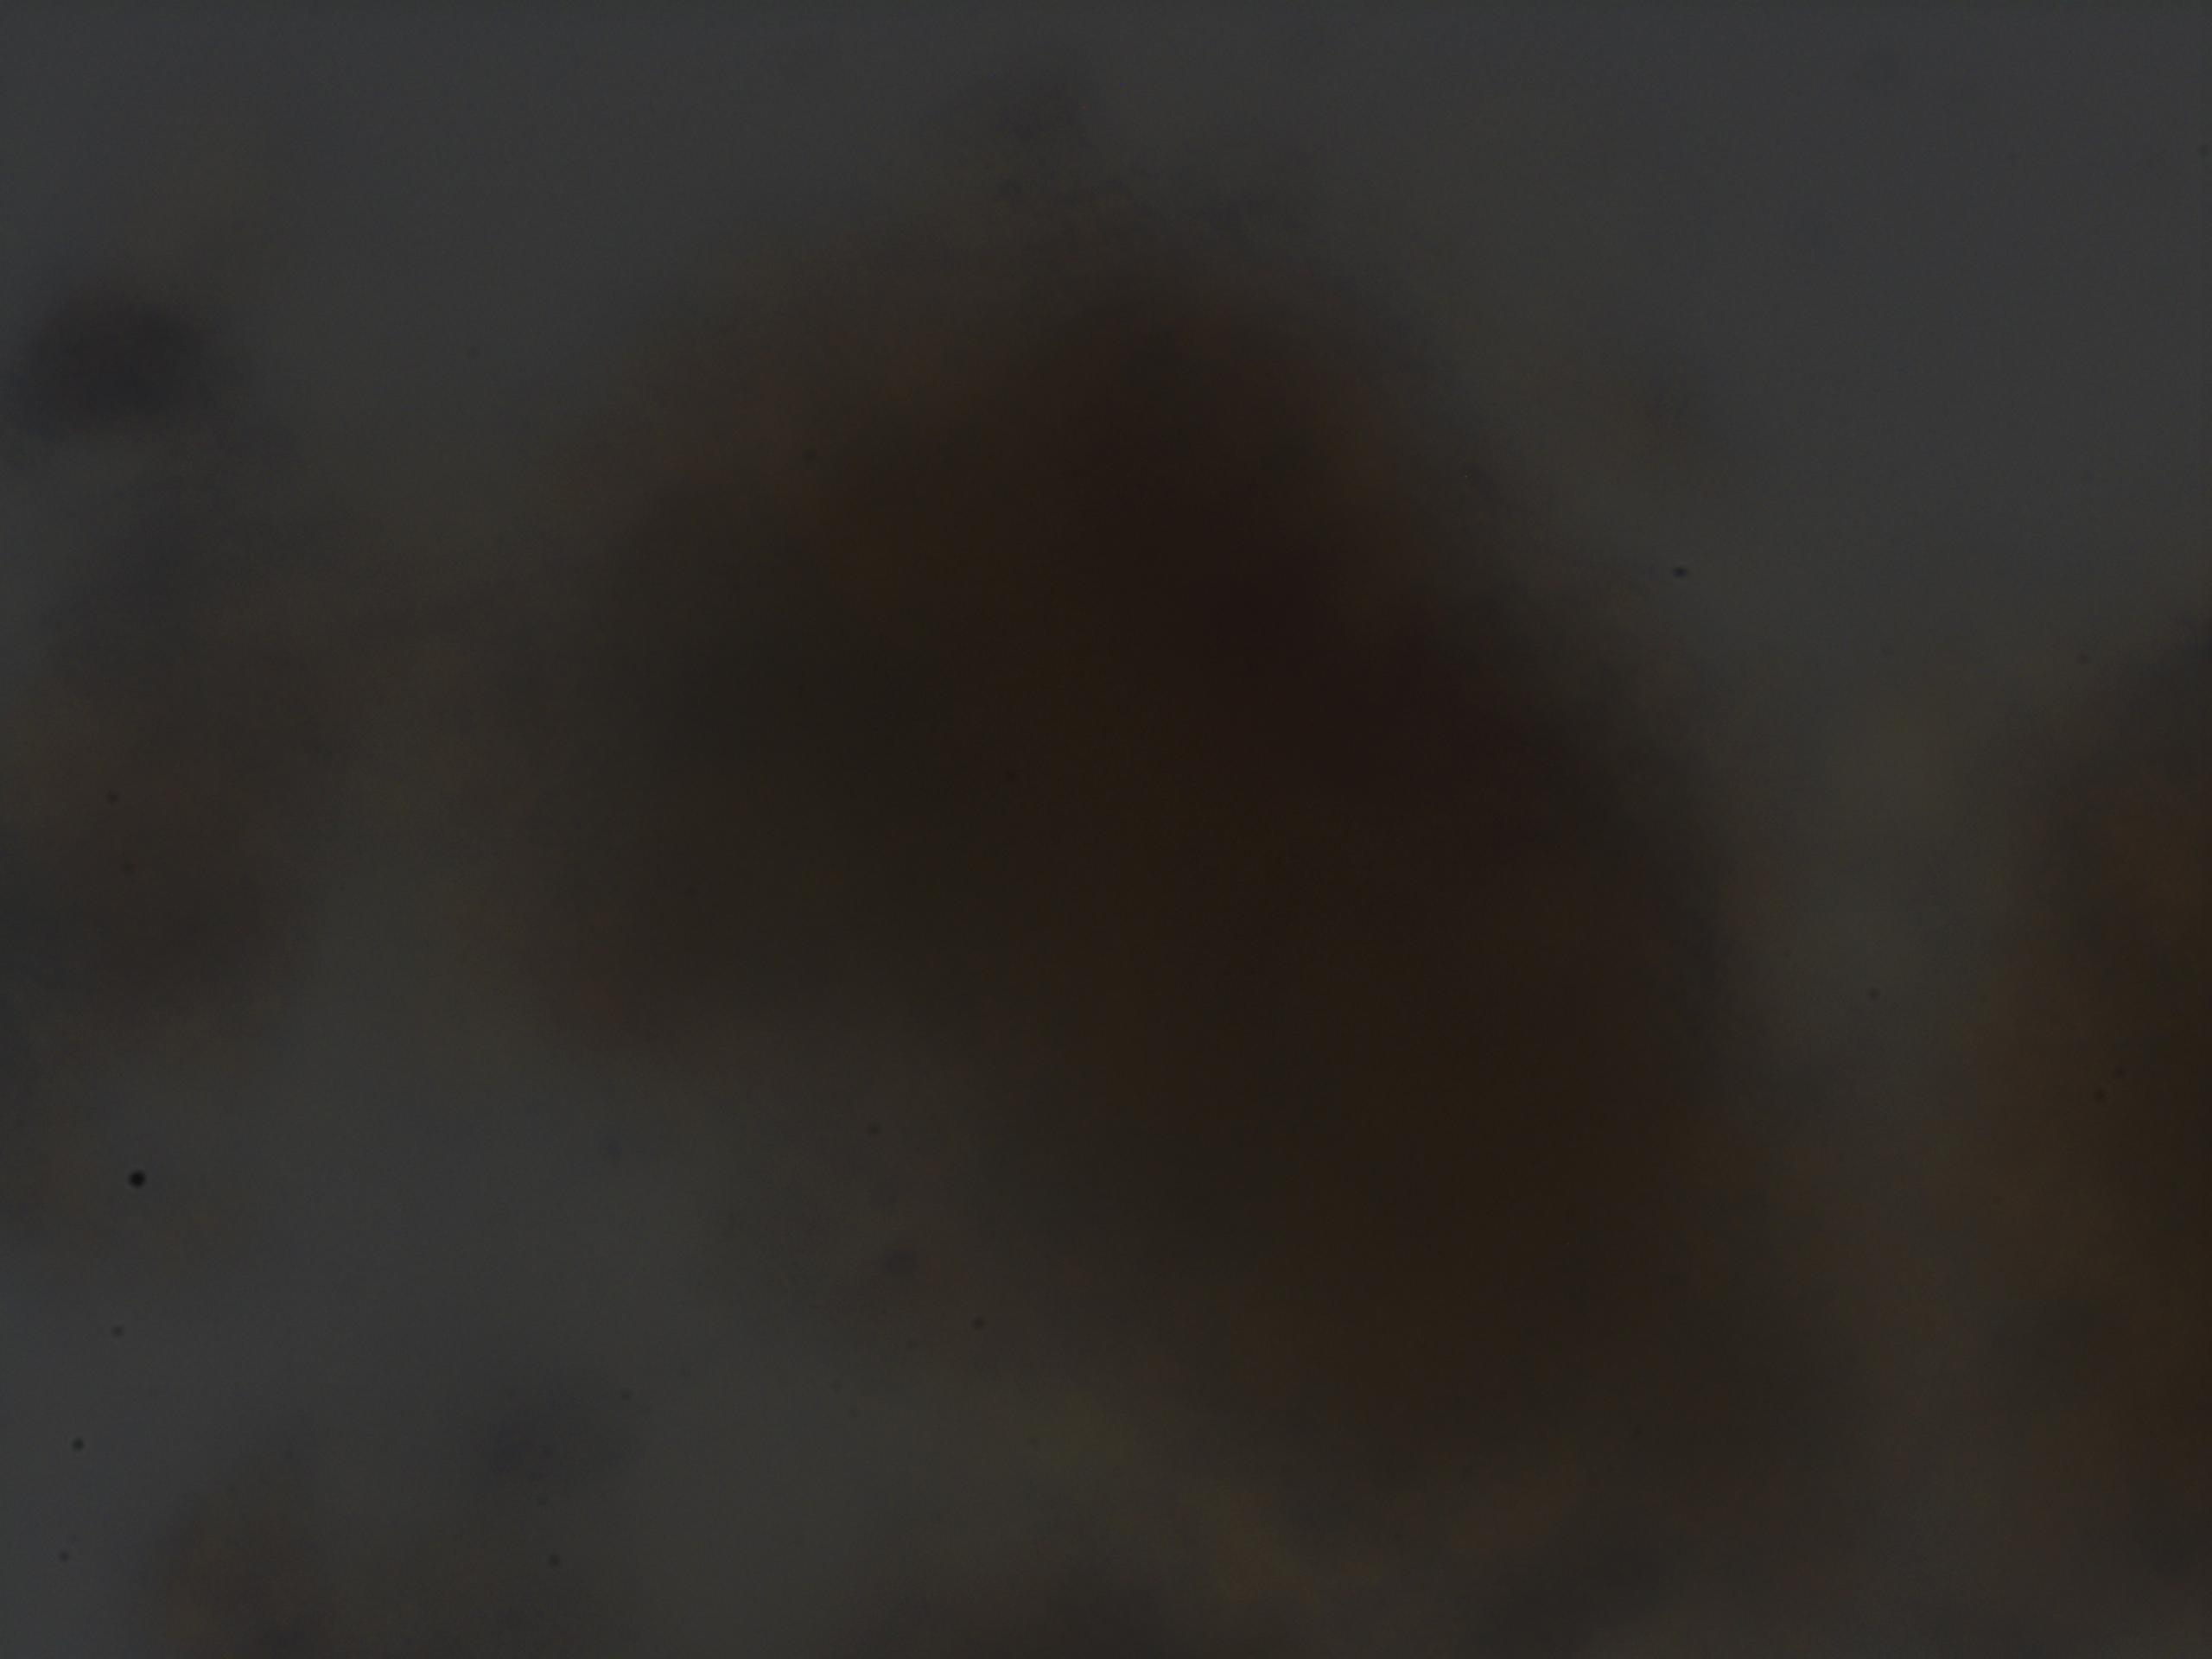spherical_floc: (538, 232, 1780, 1537)
